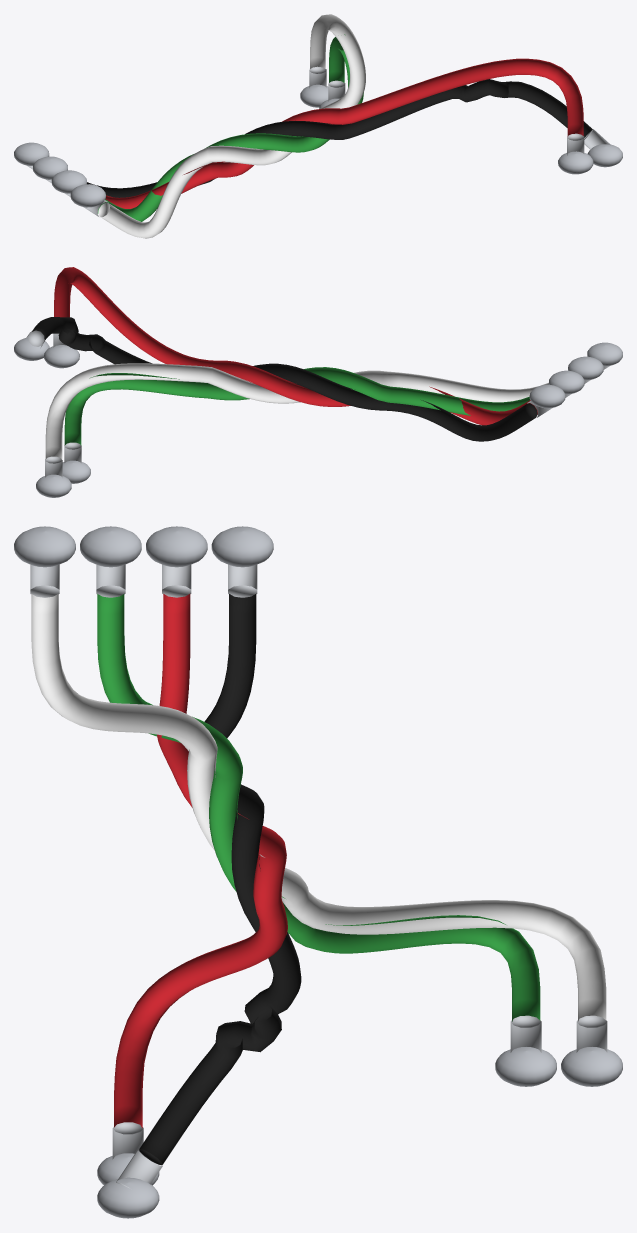
The model's file is body.glb.
3 views of the same model, one above another, from view 1: azimuth 30°, elevation 25°; view 2: azimuth 150°, elevation 25°; view 3: azimuth 270°, elevation 25° (orthographic). The views are drawn at different scales.
Visible parts, largest first — view 1: conductor_p3, conductor_p2, conductor_p4, conductor_p1, end_rx_joint_p2, end_fc_joint_p3, end_fc_joint_p4, end_rx_joint_p1, end_rx_joint_p4, end_rx_joint_p3, end_fc_joint_p2, end_fc_tip_p3 (+1 smaller); view 2: conductor_p2, conductor_p4, conductor_p3, conductor_p1, end_rx_joint_p4, end_fc_joint_p2, end_fc_joint_p3, end_rx_joint_p3, end_rx_joint_p2, end_rx_joint_p1, end_fc_joint_p4, end_fc_joint_p1 (+2 smaller); view 3: conductor_p2, conductor_p4, conductor_p3, conductor_p1, end_rx_joint_p2, end_rx_joint_p4, end_rx_joint_p1, end_rx_joint_p3, end_fc_joint_p4, end_fc_joint_p1, end_fc_joint_p2, end_fc_tip_p2 (+2 smaller).
Part boxes in pixels (x1,y1,x2,y2): conductor_p3: (105,58,583,208); conductor_p2: (98,14,365,238); conductor_p4: (87,79,592,197); conductor_p1: (97,34,363,221); end_rx_joint_p2: (70,184,105,207); end_fc_joint_p3: (558,151,593,174); end_fc_joint_p4: (587,144,622,167); end_rx_joint_p1: (51,170,86,193); end_rx_joint_p4: (14,142,49,165); end_rx_joint_p3: (33,156,67,179); end_fc_joint_p2: (300,84,328,107); end_fc_tip_p3: (567,133,584,155); conductor_p2: (45,363,548,459); conductor_p4: (31,317,537,441); conductor_p3: (54,267,537,425); conductor_p1: (64,367,529,445); end_rx_joint_p4: (529,384,565,408); end_fc_joint_p2: (36,474,71,497); end_fc_joint_p3: (44,345,79,368); end_rx_joint_p3: (549,370,584,394); end_rx_joint_p2: (587,342,622,366); end_rx_joint_p1: (568,356,603,380); end_fc_joint_p4: (14,337,49,360); end_fc_joint_p1: (62,460,90,483); conductor_p2: (31,594,606,1021); conductor_p4: (139,594,301,1165); conductor_p3: (114,594,287,1127); conductor_p1: (97,594,540,1021); end_rx_joint_p2: (14,526,75,567); end_rx_joint_p4: (211,526,273,567); end_rx_joint_p1: (80,526,141,567); end_rx_joint_p3: (146,526,207,567); end_fc_joint_p4: (97,1177,159,1218); end_fc_joint_p1: (495,1047,556,1086); end_fc_joint_p2: (561,1047,622,1086); end_fc_tip_p2: (576,1015,607,1052).
Size of the model in its own units: 0.0444 by 0.00942 by 0.0235.
